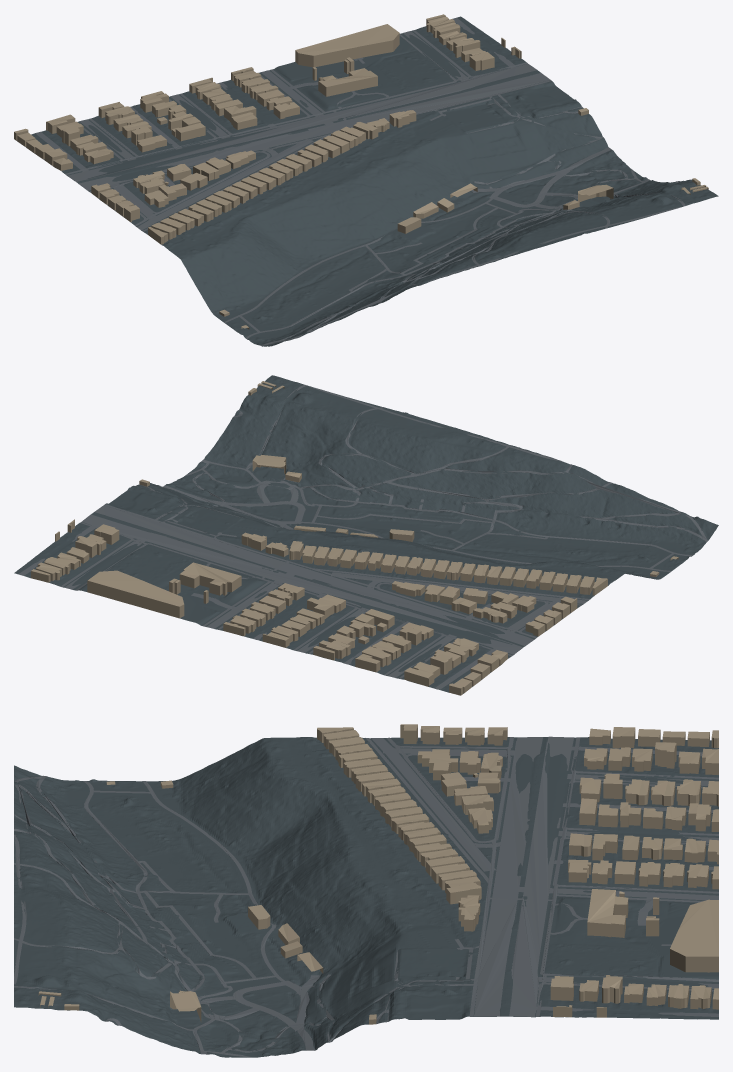
File: epsg26910-1421-10876.lod0.glb
3 views of the same model, one above another, from view 1: azimuth 30°, elevation 25°; view 2: azimuth 150°, elevation 25°; view 3: azimuth 270°, elevation 25° (orthographic). The views are drawn at different scales.
Visible parts, largest first — view 1: epsg26910-1421-10876-lod0; view 2: epsg26910-1421-10876-lod0; view 3: epsg26910-1421-10876-lod0.
Part boxes in pixels (left/top/right/bottom): epsg26910-1421-10876-lod0: left=14, top=14, right=718, bottom=346; epsg26910-1421-10876-lod0: left=14, top=375, right=718, bottom=695; epsg26910-1421-10876-lod0: left=14, top=724, right=718, bottom=1057.
Size of the model in its own units: 384 by 45.41 by 384.
